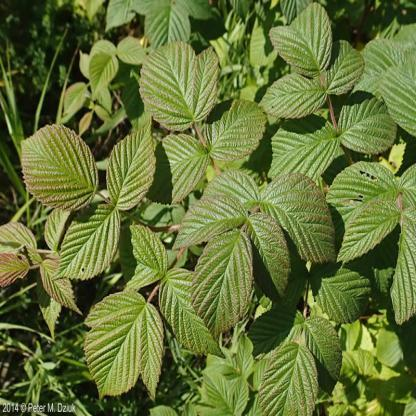Raspberry leaf: (88, 289, 168, 400), (18, 118, 98, 213), (260, 174, 342, 264), (171, 172, 261, 252), (142, 40, 218, 134), (190, 228, 250, 336), (159, 266, 226, 361), (51, 203, 124, 284), (148, 126, 208, 212), (103, 114, 154, 214), (268, 4, 338, 76), (302, 312, 362, 396), (259, 340, 321, 416), (336, 87, 406, 150), (206, 98, 270, 165), (111, 219, 166, 292), (264, 75, 326, 122), (320, 31, 367, 92)
